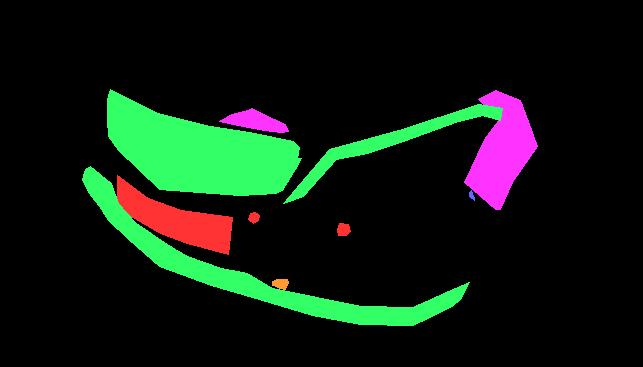Broken part: (82, 166, 469, 325), (283, 104, 502, 203), (107, 89, 301, 195)
Dent: (464, 90, 537, 209), (219, 108, 288, 132)
Missing part: (117, 175, 232, 254), (337, 223, 350, 235), (248, 212, 259, 223)
Paint chip: (208, 267, 258, 293), (145, 240, 166, 258), (103, 202, 120, 219), (265, 291, 283, 302), (116, 216, 131, 229), (272, 279, 288, 289)
Scratch: (469, 190, 474, 200)
